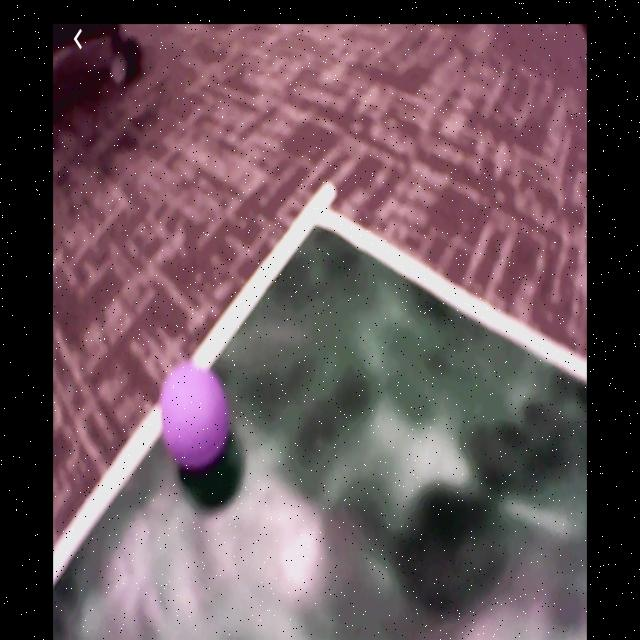ball: (160, 360, 231, 472)
